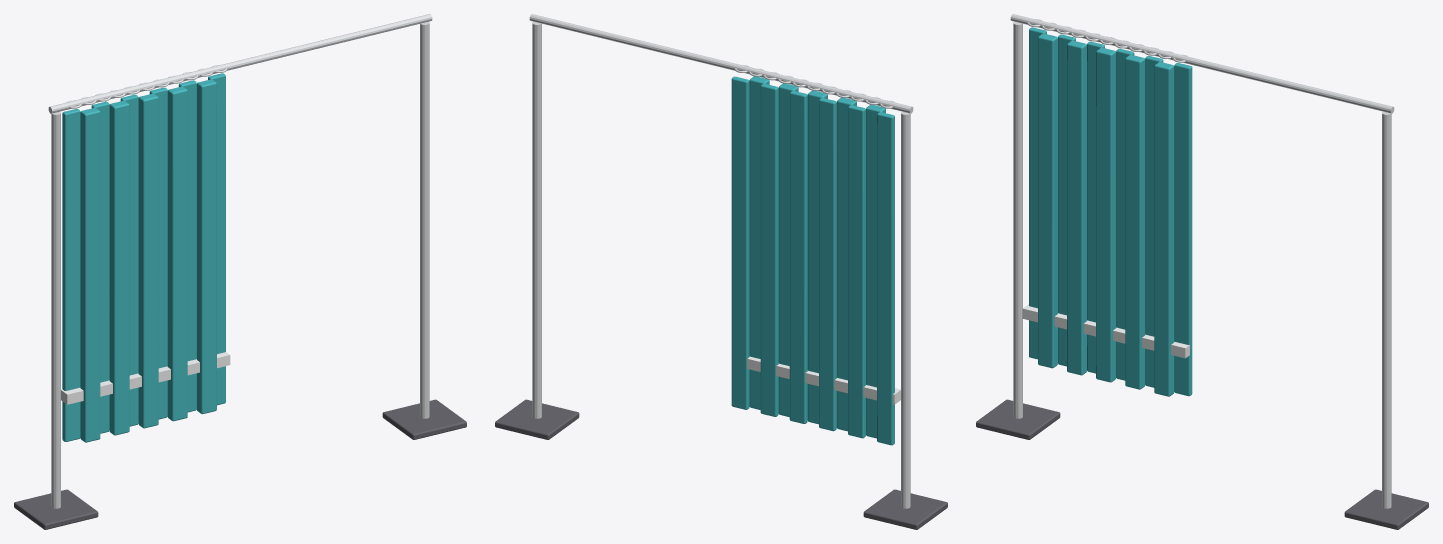
File: tattoo-and-piercing-studio-privacy-curtain-rail-5e1bb661__34529.glb
3 views of the same model, side by side, from view 1: azimuth 30°, elevation 25°; view 2: azimuth 150°, elevation 25°; view 3: azimuth 330°, elevation 25° (orthographic).
Visible parts, largest first — view 1: privacy-curtain-rail; view 2: privacy-curtain-rail; view 3: privacy-curtain-rail.
Boxes of the visible parts, bbox=[...] form: privacy-curtain-rail: bbox=[14, 14, 466, 529]; privacy-curtain-rail: bbox=[495, 14, 947, 529]; privacy-curtain-rail: bbox=[976, 14, 1428, 529].
Bounding box in the file's own units: 2.18 × 2.01 × 0.28.
